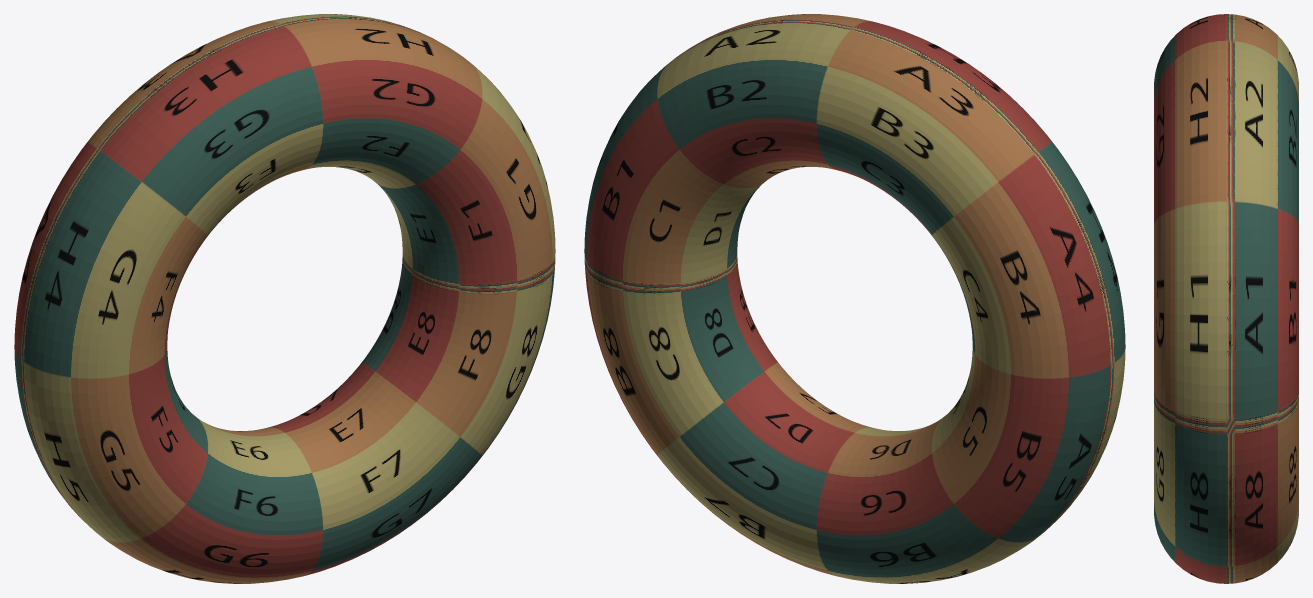
The model's file is texture_torus_R4_r5.glb.
The picture shows the model from 3 angles, left to right: view 1: azimuth 30°, elevation 25°; view 2: azimuth 150°, elevation 25°; view 3: azimuth 270°, elevation 25°; orthographic projection. The views are drawn at different scales.
Parts seen in each view (by area): view 1: world; view 2: world; view 3: world.
Part boxes in pixels (x1,y1,x2,y2): world: (14,14,555,583); world: (584,14,1125,583); world: (1154,14,1298,583).
Bounding box in the file's own units: 25.33 × 25.33 × 6.43.
Materials: 1 (1 with a texture image).
